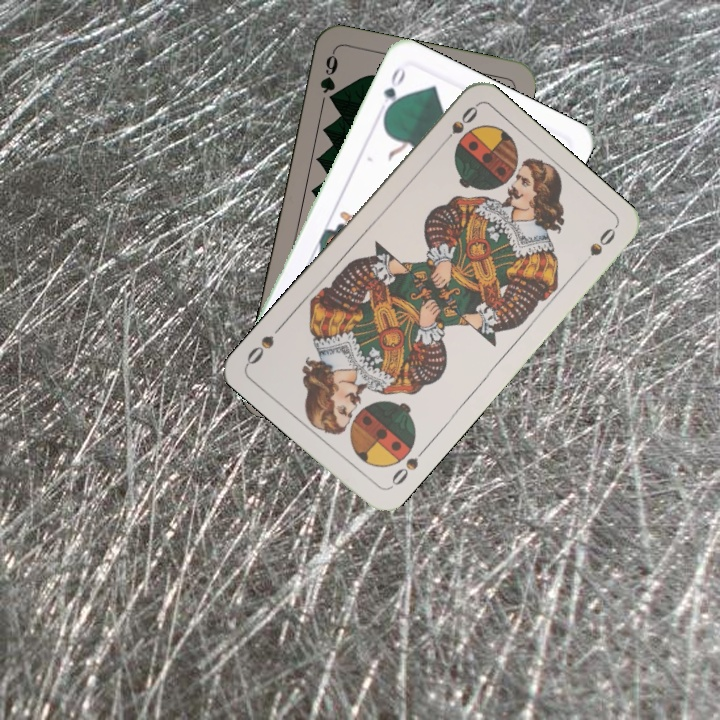G9: (316, 48, 341, 96)
GO: (379, 63, 408, 120)
SO: (436, 101, 481, 151), (384, 443, 429, 492)
